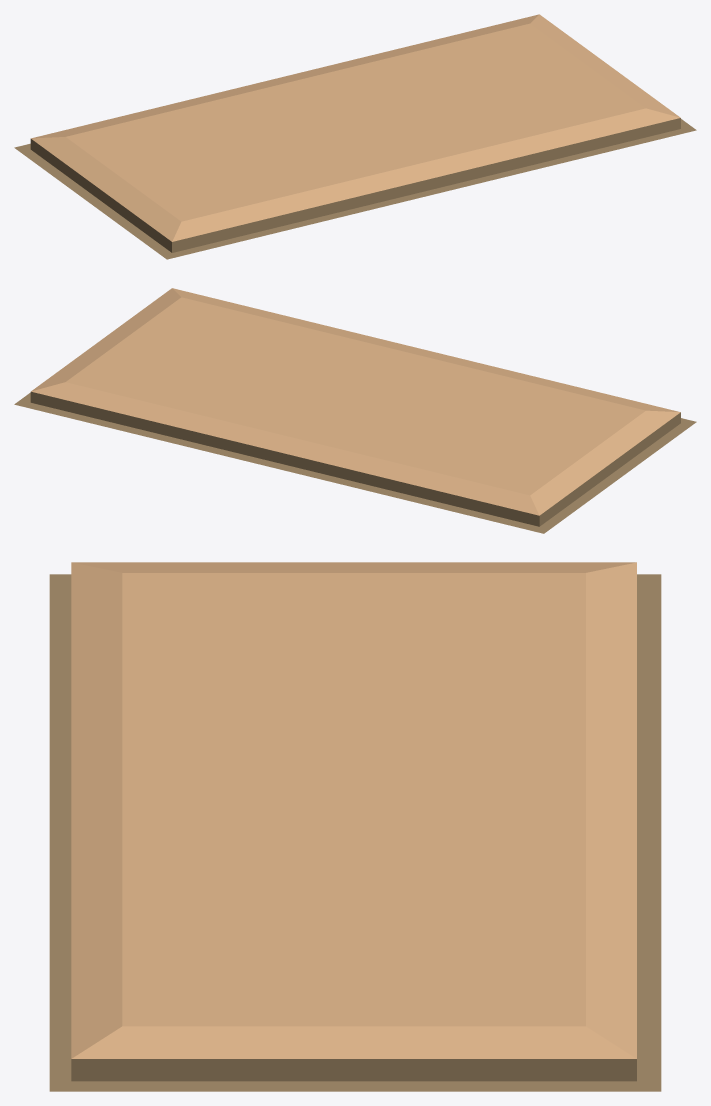
The model's file is Tile_0.5.fbx.
3 renders of one model, top to bottom at view 1: azimuth 30°, elevation 25°; view 2: azimuth 150°, elevation 25°; view 3: azimuth 270°, elevation 25°, orthographic. The views are drawn at different scales.
Visible parts, largest first — view 1: Plane.002; view 2: Plane.002; view 3: Plane.002.
Part boxes in pixels (x1=…): Plane.002: x1=14, y1=14, x2=696, y2=259; Plane.002: x1=14, y1=288, x2=696, y2=533; Plane.002: x1=49, y1=562, x2=661, y2=1091.
Size of the model in its own units: 100 by 3 by 50.
